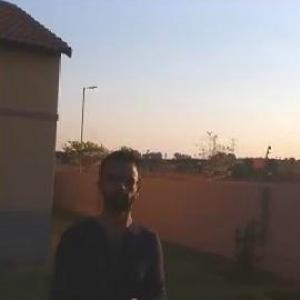follow: (43, 147, 171, 299)
